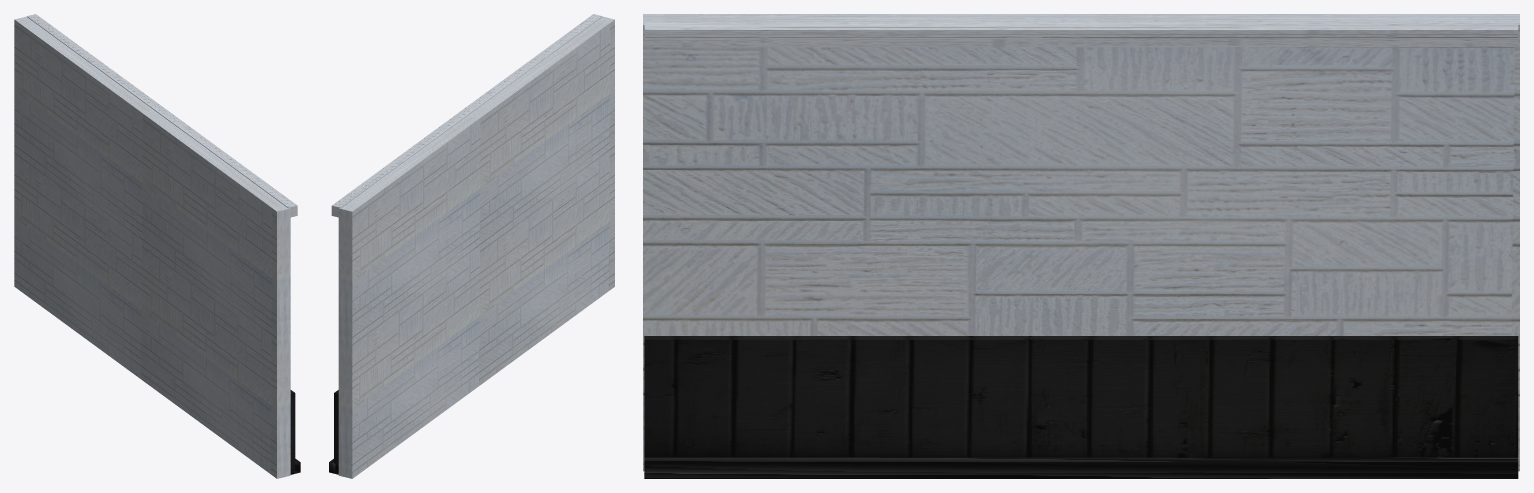
The model's file is Parede Escritorio tile.fbx.
The picture shows the model from 3 angles, left to right: view 1: azimuth 30°, elevation 25°; view 2: azimuth 150°, elevation 25°; view 3: azimuth 270°, elevation 25°; orthographic projection. The views are drawn at different scales.
Visible parts, largest first — view 1: Cube.002, Cube.001, Cube.004; view 2: Cube.002, Cube.001, Cube.004; view 3: Cube.002, Cube.004, Cube.001, Cube.003.
Part boxes in pixels (x1=…): Cube.002: x1=14, y1=16, x2=290, y2=478; Cube.001: x1=27, y1=14, x2=297, y2=217; Cube.004: x1=290, y1=390, x2=295, y2=470; Cube.002: x1=338, y1=16, x2=614, y2=478; Cube.001: x1=331, y1=14, x2=602, y2=217; Cube.004: x1=334, y1=390, x2=338, y2=464; Cube.002: x1=643, y1=14, x2=1519, y2=471; Cube.004: x1=644, y1=336, x2=1518, y2=457; Cube.001: x1=644, y1=22, x2=1518, y2=47; Cube.003: x1=644, y1=457, x2=1518, y2=478.
Bounding box in the file's own units: 42.78 × 460 × 816.
4 materials, 4 textured.
